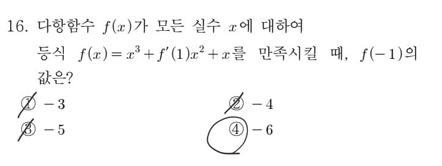1: (205, 115, 249, 157)
paper: (17, 94, 38, 114), (17, 118, 38, 138), (224, 94, 245, 114), (225, 119, 246, 139)
